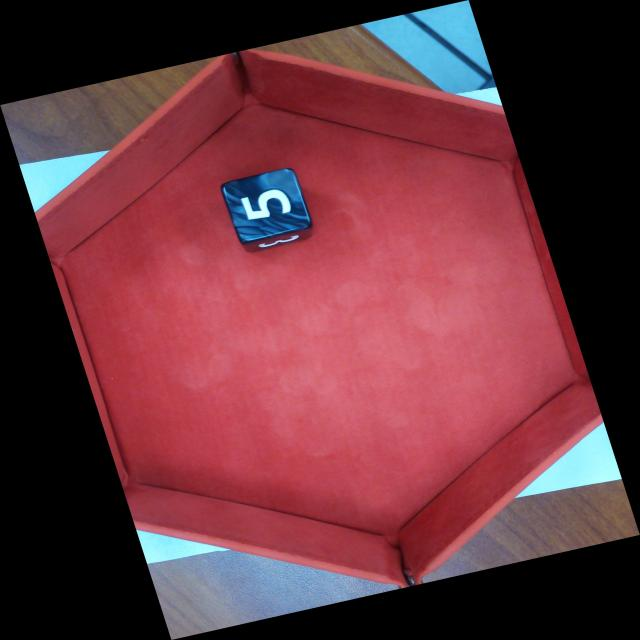dice: (219, 167, 318, 241)
